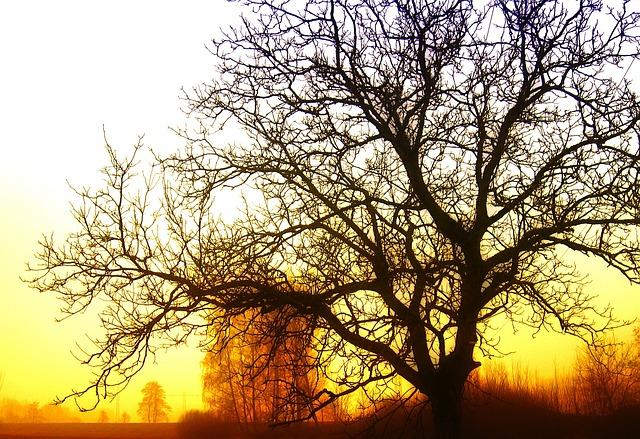Non_Gorille: (44, 53, 582, 404)
